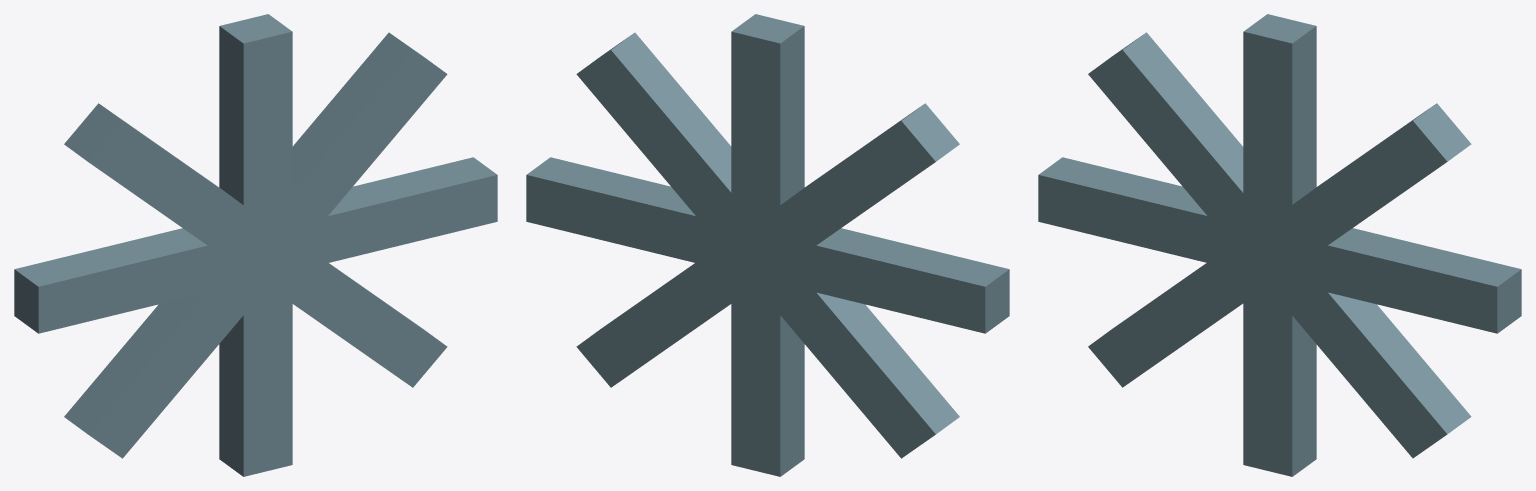
Rendered from star4.glb.
3 views of the same model, side by side, from view 1: azimuth 30°, elevation 25°; view 2: azimuth 150°, elevation 25°; view 3: azimuth 330°, elevation 25° (orthographic).
Visible parts, largest first — view 1: Mesh_Mesh_head_geo.001_lambert2SG.001; view 2: Mesh_Mesh_head_geo.001_lambert2SG.001; view 3: Mesh_Mesh_head_geo.001_lambert2SG.001.
Part boxes in pixels (x1,y1,x2,y2): Mesh_Mesh_head_geo.001_lambert2SG.001: [14, 14, 497, 476]; Mesh_Mesh_head_geo.001_lambert2SG.001: [526, 14, 1009, 476]; Mesh_Mesh_head_geo.001_lambert2SG.001: [1038, 14, 1521, 476].
Bounding box in the file's own units: 0.44 × 0.397 × 0.04.
